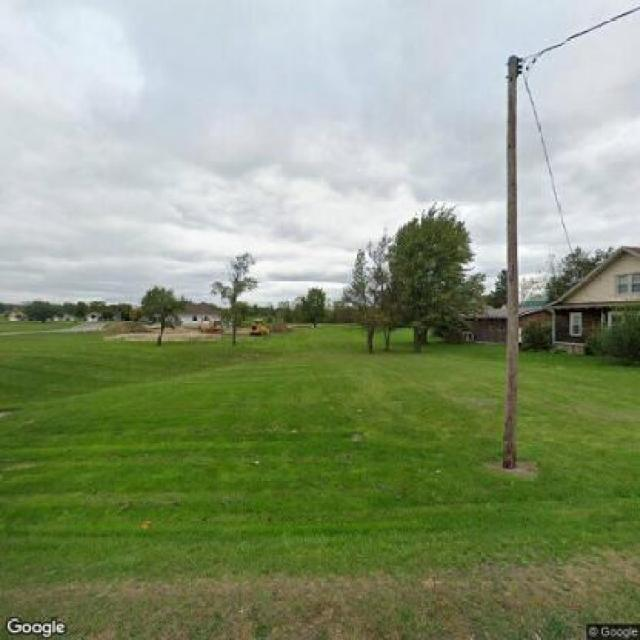pole: (495, 42, 539, 466)
